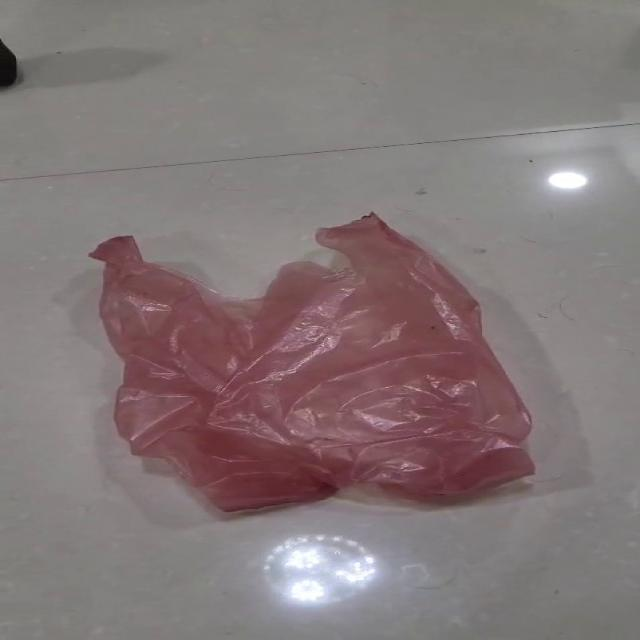plastic: (87, 211, 537, 513)
